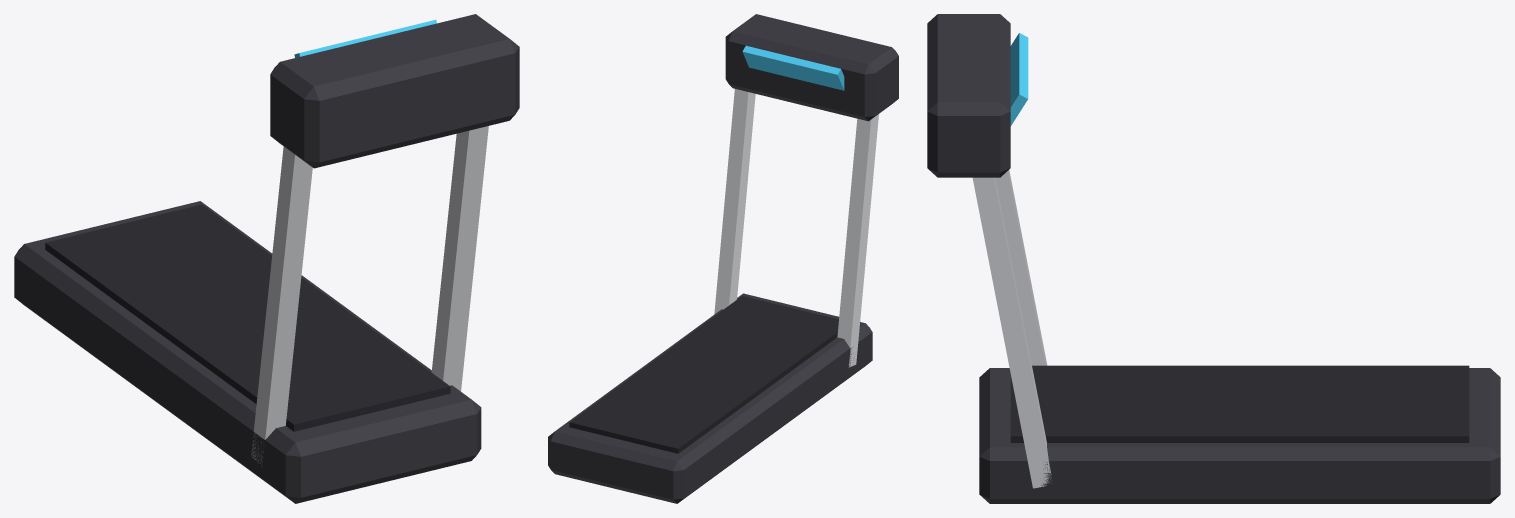
File: Treadmill.fbx
3 renders of one model, left to right at view 1: azimuth 30°, elevation 25°; view 2: azimuth 150°, elevation 25°; view 3: azimuth 270°, elevation 25°, orthographic. The views are drawn at different scales.
Parts seen in each view (by area): view 1: Treadmill; view 2: Treadmill; view 3: Treadmill.
Part boxes in pixels (left/top/right/bottom): Treadmill: left=14, top=14, right=519, bottom=503; Treadmill: left=548, top=14, right=898, bottom=503; Treadmill: left=927, top=14, right=1500, bottom=503.
Bounding box in the file's own units: 2.2 × 4.3 × 5.5.
1 material, 1 textured.
